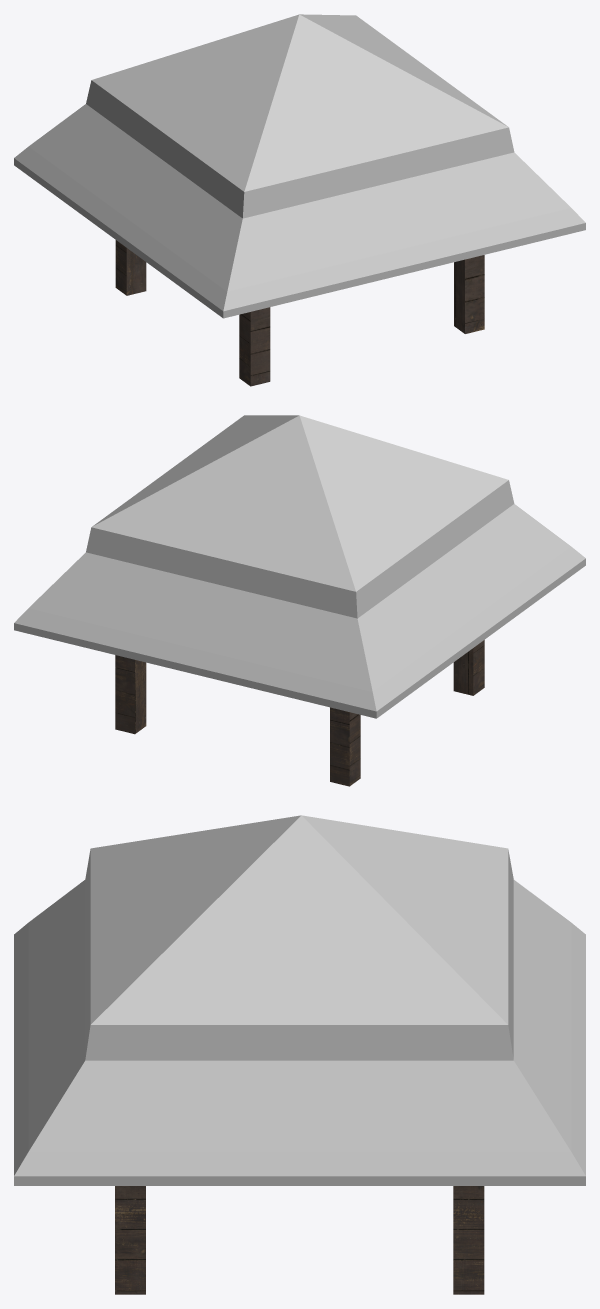
Rendered from Roof-1.fbx.
3 views of the same model, one above another, from view 1: azimuth 30°, elevation 25°; view 2: azimuth 150°, elevation 25°; view 3: azimuth 270°, elevation 25° (orthographic). The views are drawn at different scales.
Visible parts, largest first — view 1: StrechaTypC; view 2: StrechaTypC; view 3: StrechaTypC.
Part boxes in pixels (box(x1,y1,x2,y2)): StrechaTypC: box(14, 14, 585, 386); StrechaTypC: box(14, 415, 585, 786); StrechaTypC: box(14, 815, 585, 1294).
Size of the model in its own units: 1575 by 1219 by 1575.
